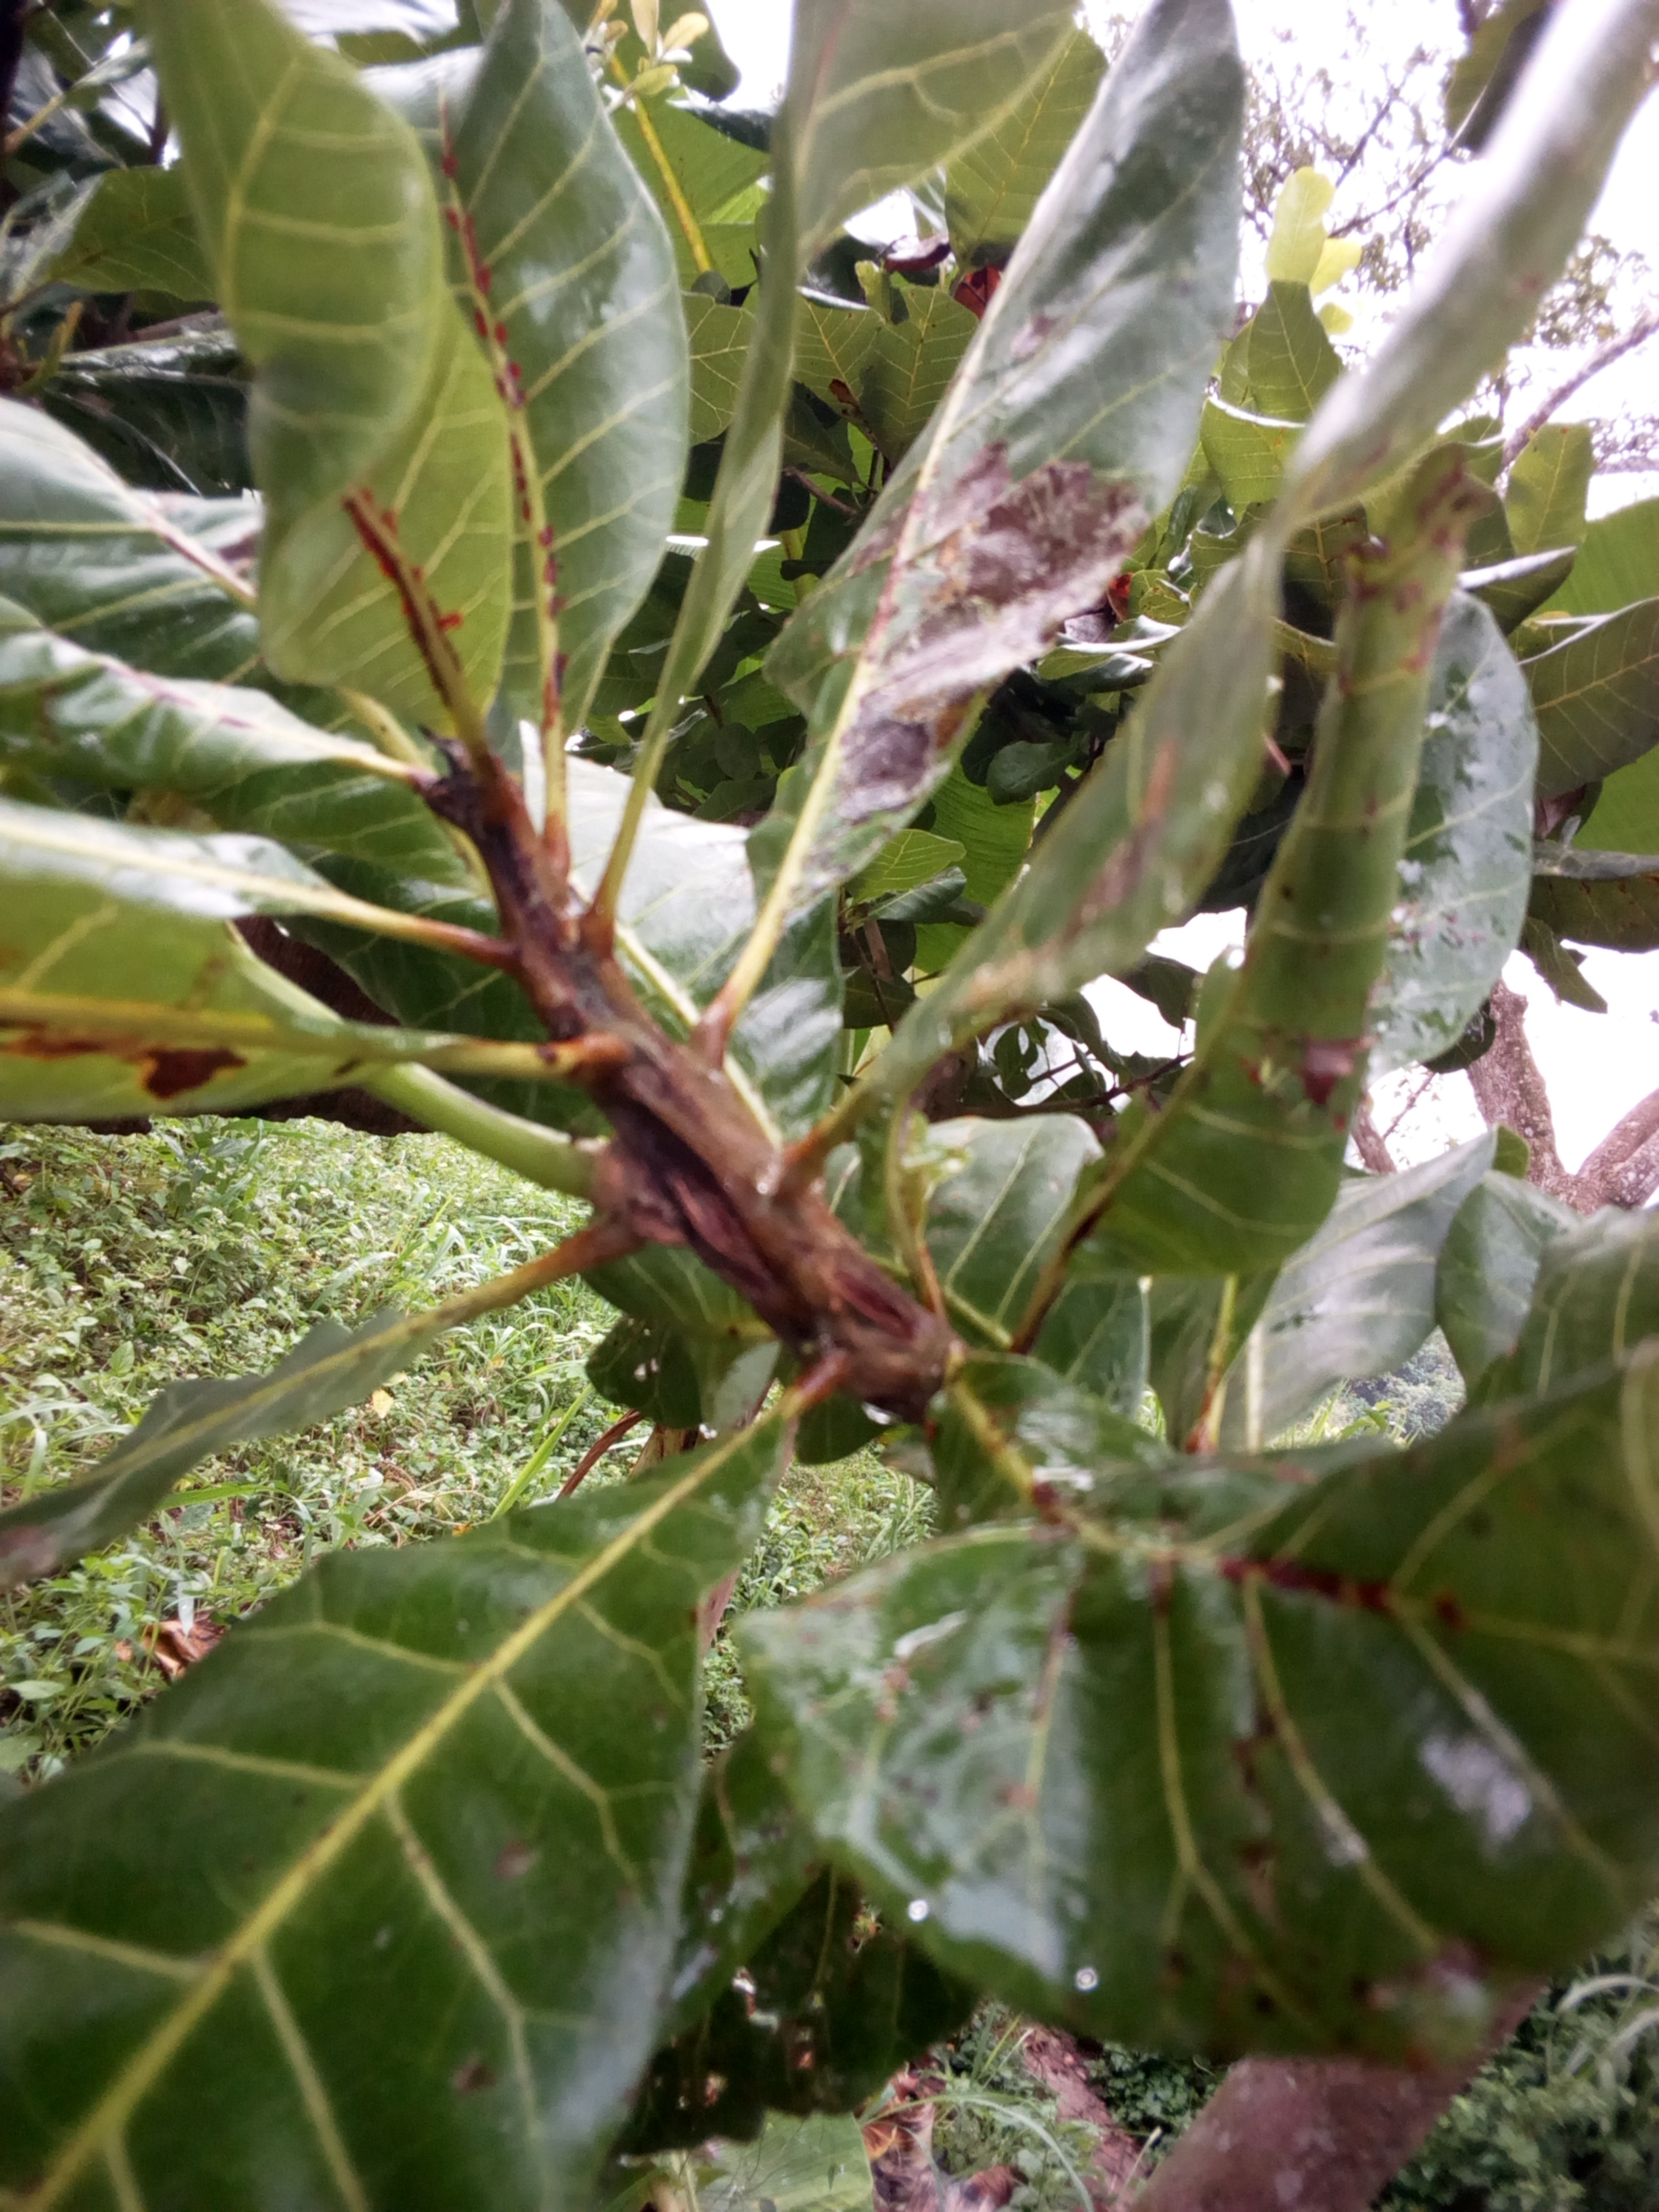Dysdercus wolkerii: (741, 12, 1293, 944)
